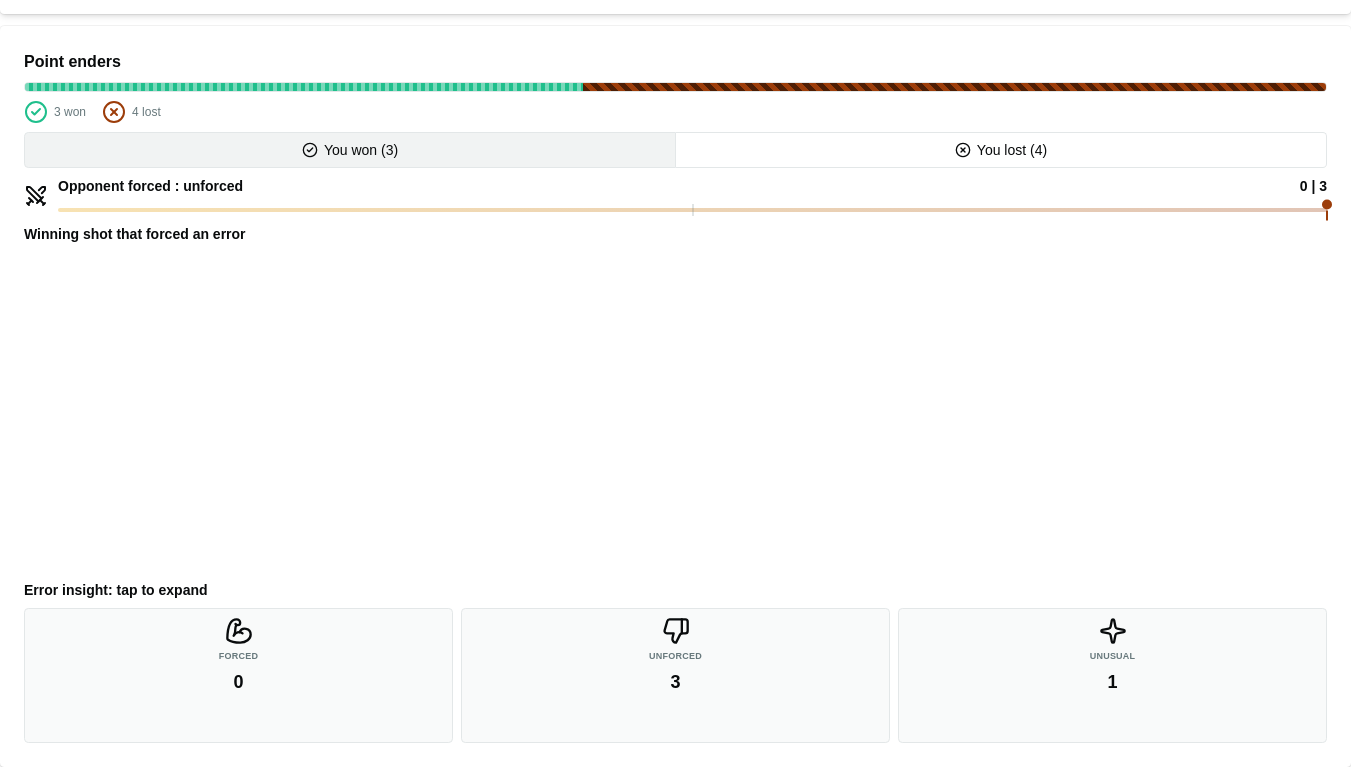
Test: an unusual style with no wing and no reasons says so, singular count included
The width and height of the screenshot is (1366, 767).
(page scrolled)
Expected: the heading "Point enders" is shown, x1=24 y1=53 x2=121 y2=70
Click the button "Unusual 1" at [1112, 676], box x1=898 y1=608 x2=1327 y2=743
(page scrolled)
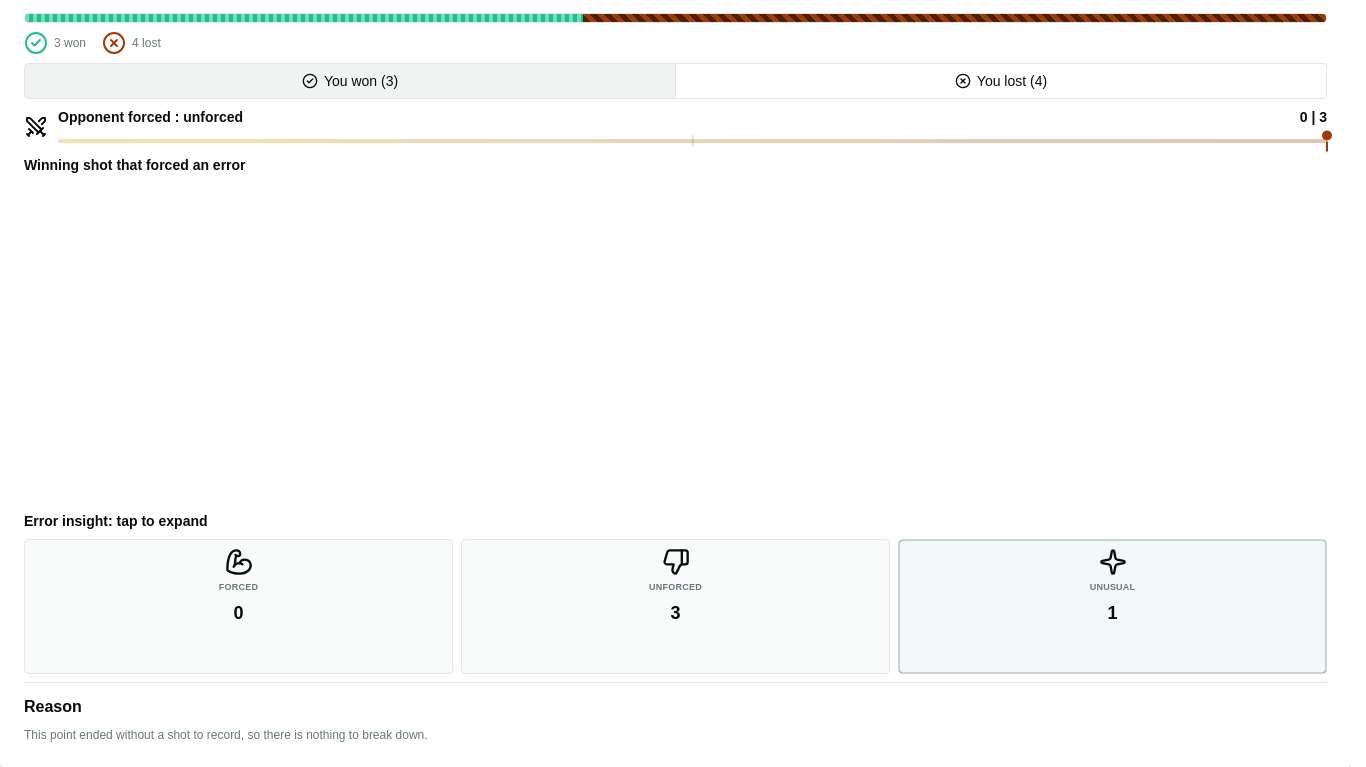
Now the text "This point ended without a shot to record, so there is nothing to break down." is shown, box x1=24 y1=728 x2=428 y2=742
